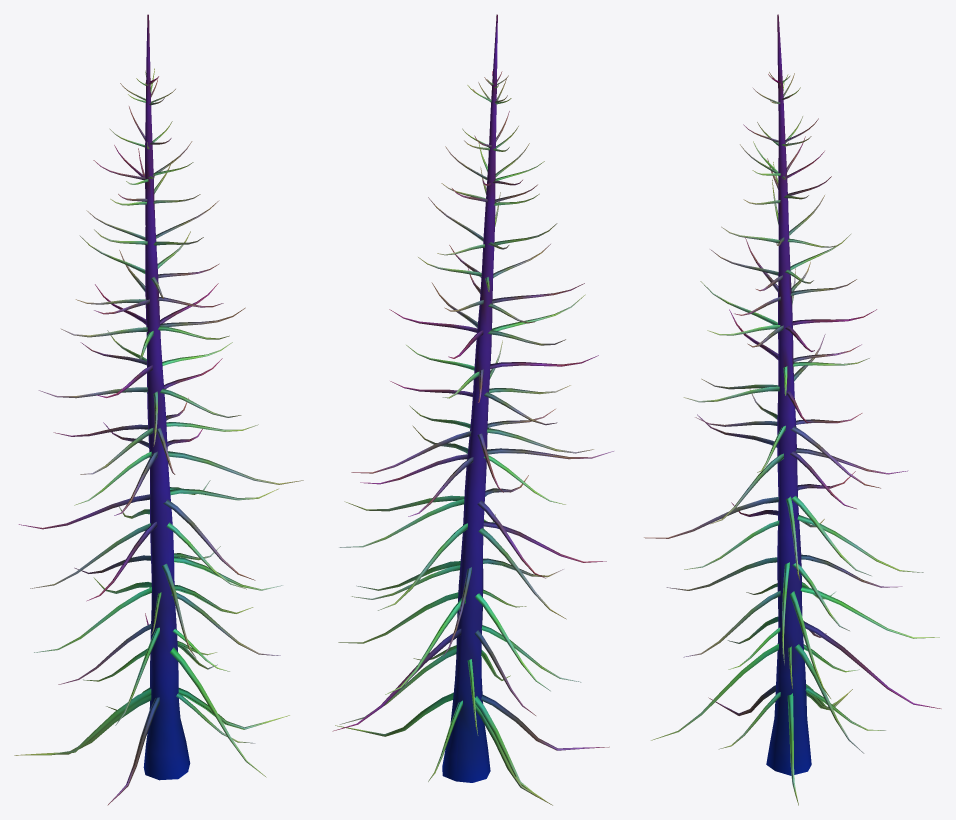
Rendered from spruce-old-c.glb.
3 renders of one model, left to right at view 1: azimuth 30°, elevation 25°; view 2: azimuth 150°, elevation 25°; view 3: azimuth 270°, elevation 25°, orthographic. The views are drawn at different scales.
Parts seen in each view (by area): view 1: bark; view 2: bark; view 3: bark.
Part boxes in pixels (x1,y1,x2,y2): bark: (14,14,303,805); bark: (332,14,613,805); bark: (644,14,941,805).
Bounding box in the file's own units: 7.61 × 22.44 × 8.2.
